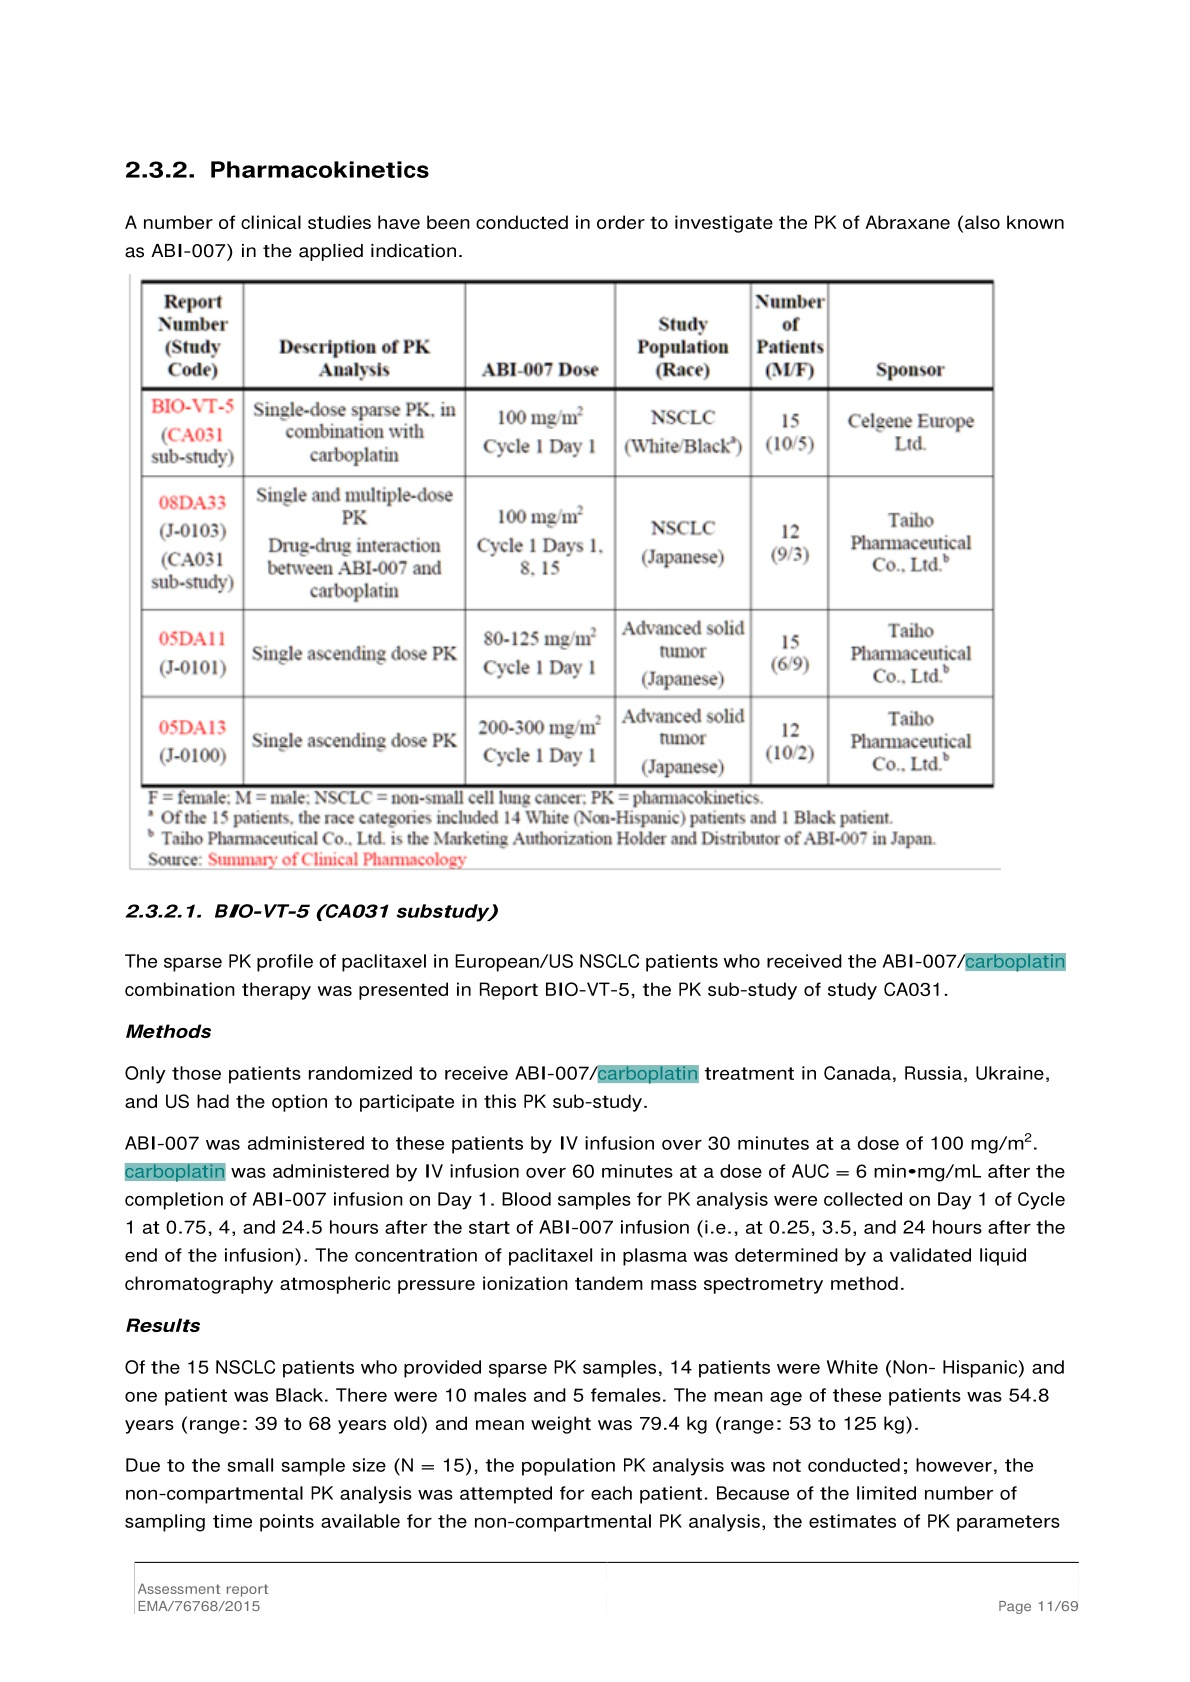full_lined: (140, 279, 996, 789)
